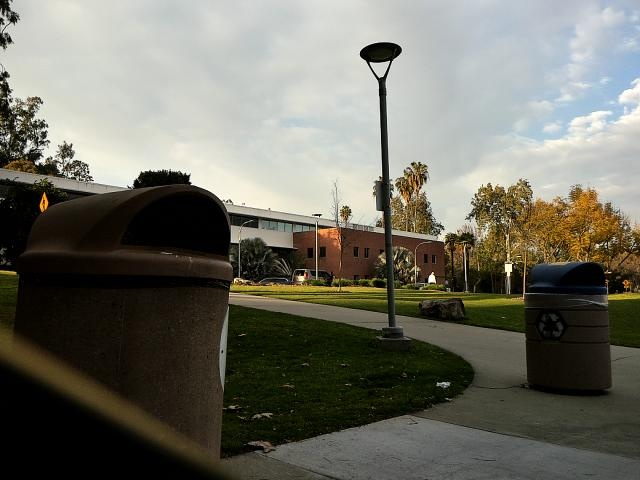trashcan: (12, 166, 239, 475), (523, 257, 619, 401)
